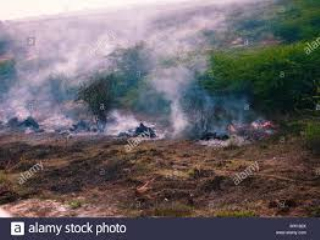fire: (252, 118, 280, 133)
smoke: (148, 61, 209, 139), (102, 106, 139, 136), (212, 93, 249, 121)
